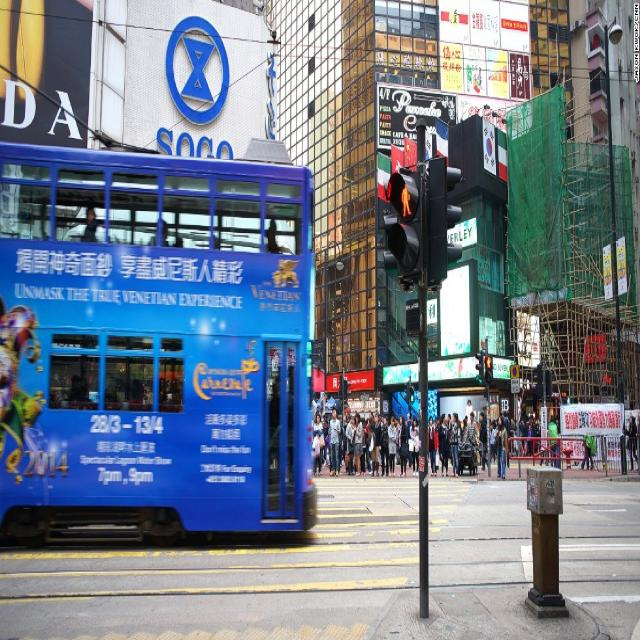body: (51, 355, 181, 415), (267, 366, 295, 512), (145, 215, 185, 304), (76, 202, 102, 305), (262, 218, 282, 315), (509, 414, 544, 458), (326, 334, 351, 381), (492, 415, 510, 480), (480, 314, 504, 358), (311, 410, 326, 476), (437, 412, 451, 478), (327, 407, 340, 478), (370, 412, 383, 478), (395, 414, 408, 479), (426, 415, 439, 478), (338, 406, 350, 474), (624, 414, 638, 472), (450, 412, 462, 478), (320, 408, 332, 473), (361, 410, 372, 478), (408, 417, 420, 478), (352, 412, 363, 476), (379, 415, 390, 478), (547, 414, 559, 471), (478, 411, 489, 472), (388, 414, 398, 478), (478, 248, 494, 288), (345, 414, 355, 476), (445, 408, 455, 469), (464, 410, 480, 446), (584, 435, 596, 473), (502, 411, 510, 468), (433, 414, 441, 471), (393, 411, 400, 468), (488, 421, 497, 465), (379, 410, 386, 460), (464, 396, 478, 419), (476, 420, 483, 465), (460, 409, 470, 438), (591, 435, 599, 460), (486, 411, 499, 426), (636, 408, 640, 455), (493, 434, 498, 462), (406, 412, 413, 429), (555, 416, 561, 434), (578, 456, 586, 468), (351, 409, 355, 427), (410, 414, 414, 430), (403, 412, 407, 426)
